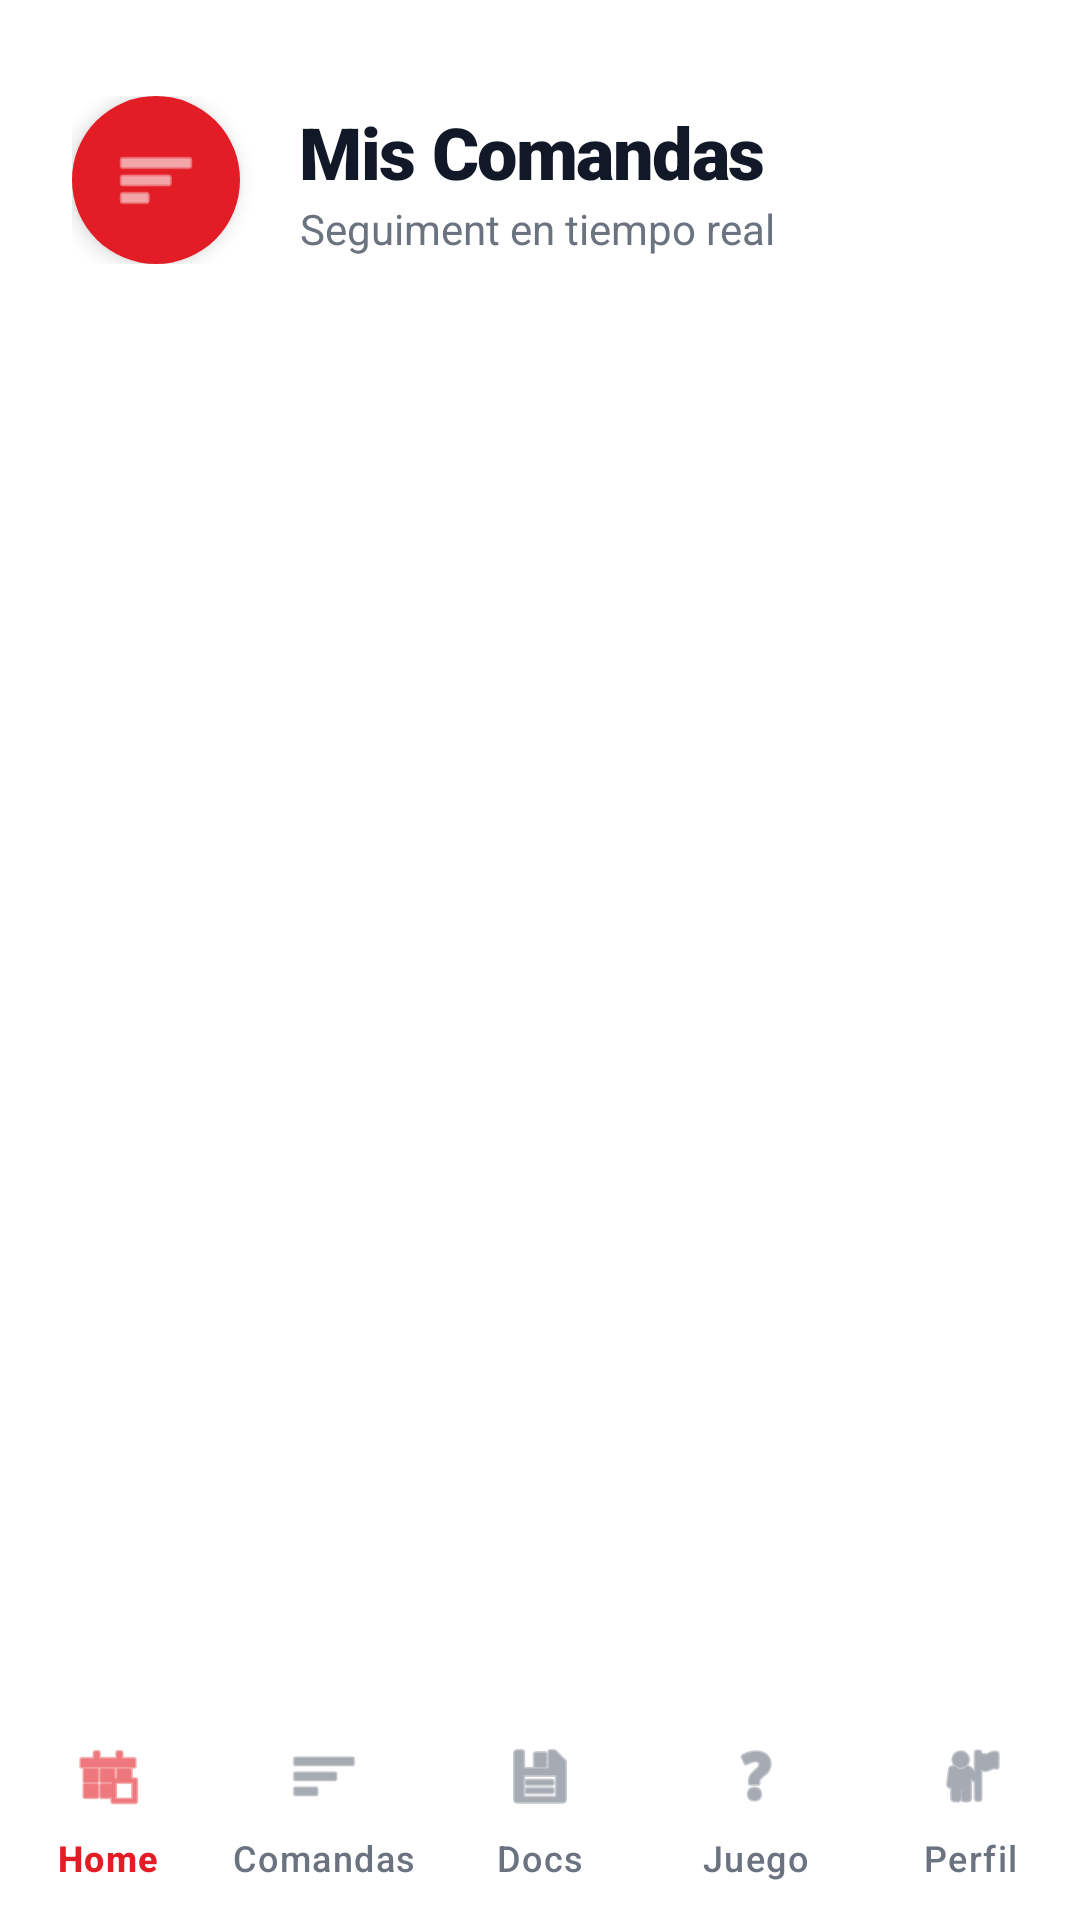

Where icons sit on this 1080px×1920px app screen, as (x1, y1, x2, y2):
sort by size: (120, 157, 192, 204)
